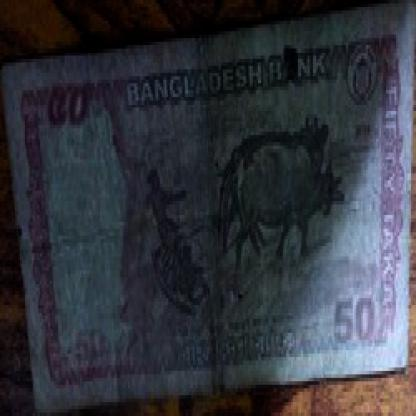Fifty taka: (322, 281, 384, 357), (42, 80, 103, 138)
